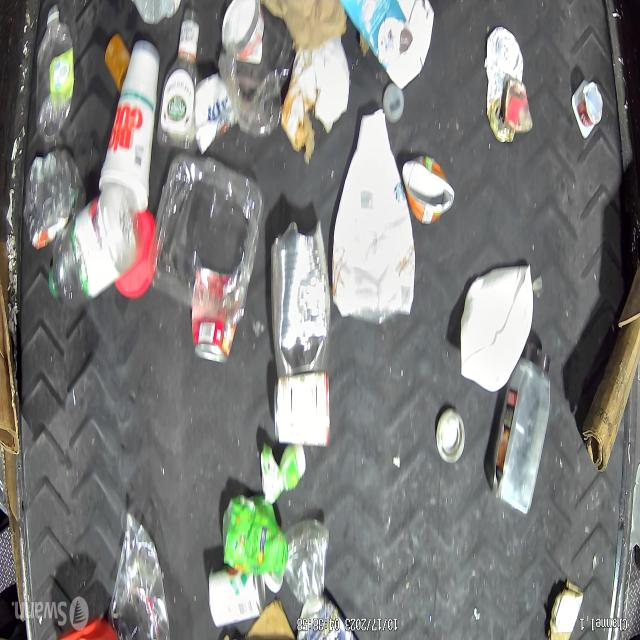can: (270, 220, 330, 380), (272, 370, 333, 448), (486, 26, 524, 145), (207, 563, 266, 630), (401, 157, 454, 226), (220, 0, 264, 64), (191, 319, 237, 364)
milk_jug: (459, 264, 534, 393)
plastic_bottle: (35, 6, 75, 144)
